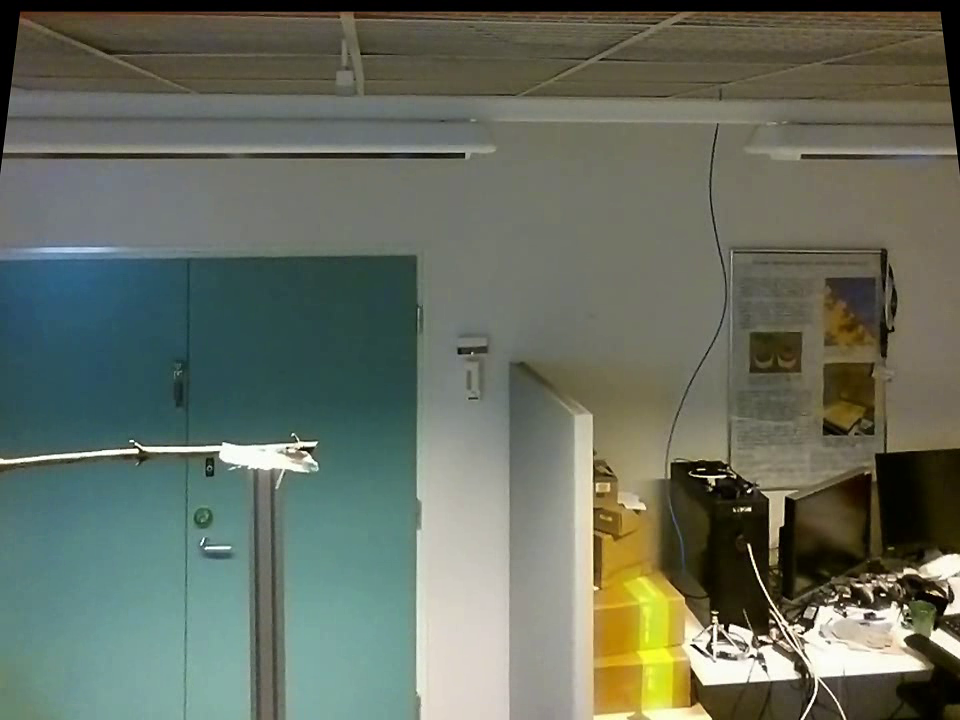aluminum_frame: (244, 468, 290, 717)
branch: (2, 429, 210, 476)
